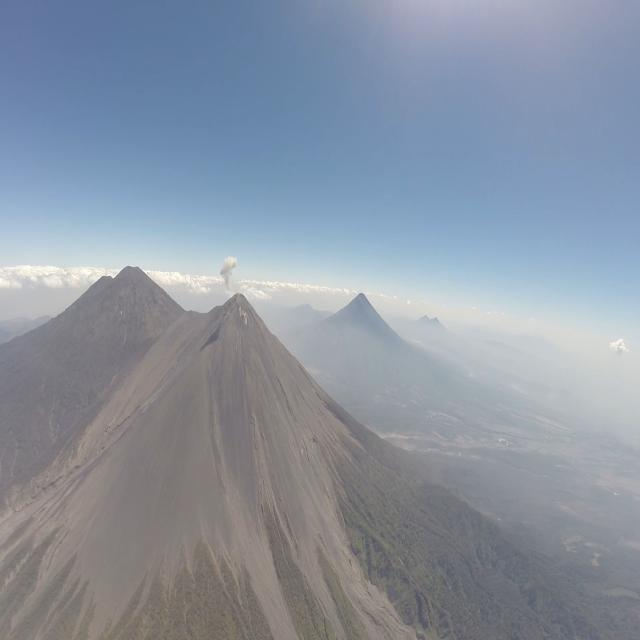Plume: (219, 252, 238, 288)
Summit: (206, 292, 269, 331)
